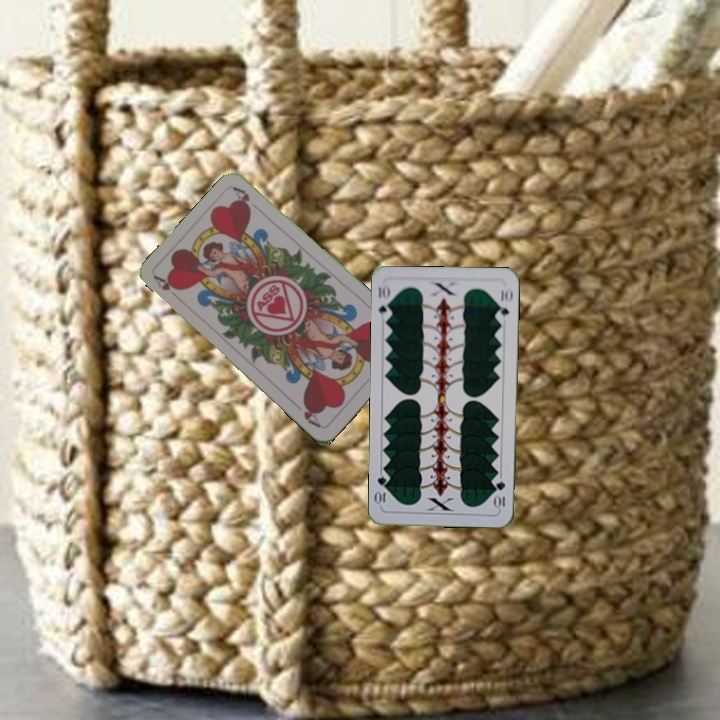G10: (374, 281, 394, 321), (492, 477, 508, 511)
HA: (150, 272, 184, 303)
